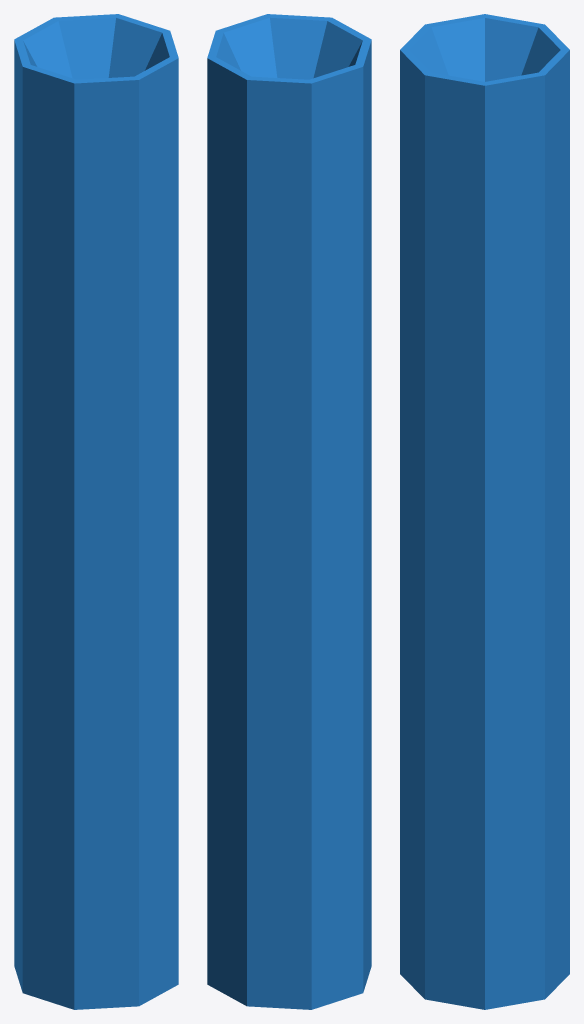
File: uracile.glb
3 views of the same model, side by side, from view 1: azimuth 30°, elevation 25°; view 2: azimuth 150°, elevation 25°; view 3: azimuth 270°, elevation 25° (orthographic).
Visible parts, largest first — view 1: uracile; view 2: uracile; view 3: uracile.
Boxes of the visible parts, bbox=[...] form: uracile: bbox=[14, 14, 178, 1009]; uracile: bbox=[207, 14, 371, 1009]; uracile: bbox=[400, 14, 569, 1009].
Size of the model in its own units: 0.0833 by 0.5 by 0.0833.
